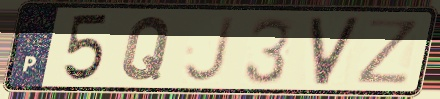3: (244, 13, 292, 87)
5: (61, 12, 110, 83)
J: (180, 14, 237, 85)
Q: (119, 14, 175, 83)
V: (307, 14, 365, 88)
Z: (352, 17, 422, 86)
